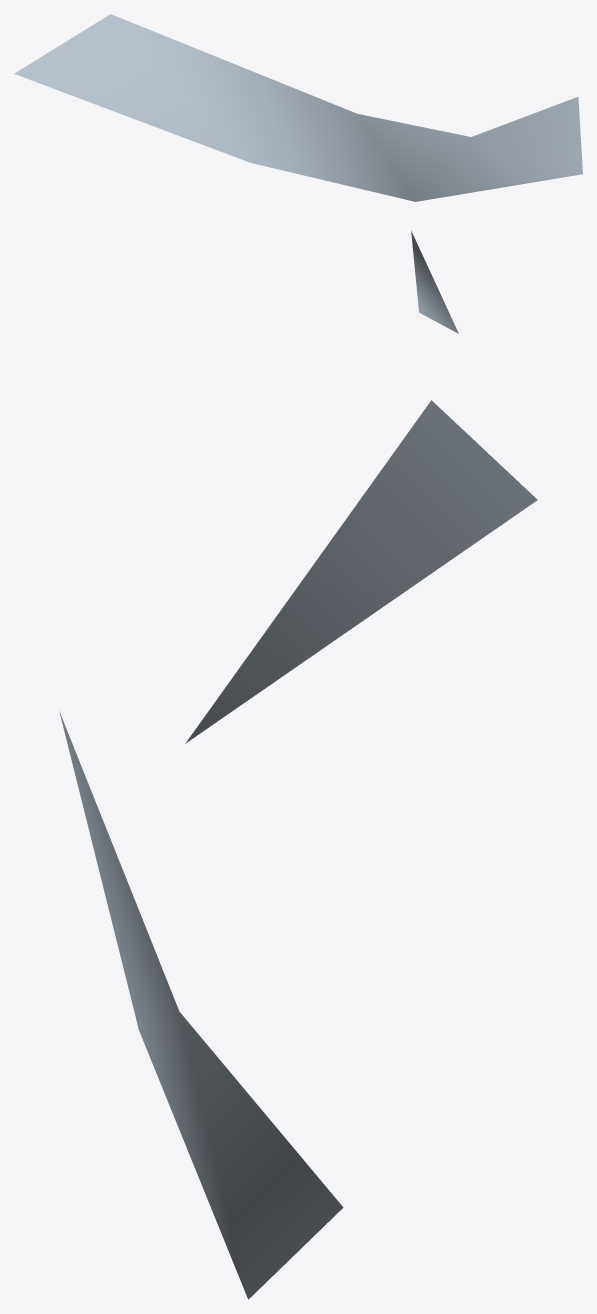
File: palmar-scaphotriquetral-ligament-r.glb
The picture shows the model from 3 angles, top to bottom: view 1: azimuth 30°, elevation 25°; view 2: azimuth 150°, elevation 25°; view 3: azimuth 270°, elevation 25°; orthographic projection. The views are drawn at different scales.
Parts seen in each view (by area): view 1: Palmar scaphotriquetral ligament.r; view 2: Palmar scaphotriquetral ligament.r; view 3: Palmar scaphotriquetral ligament.r.
Part boxes in pixels (bbox=[...]): Palmar scaphotriquetral ligament.r: bbox=[14, 14, 582, 201]; Palmar scaphotriquetral ligament.r: bbox=[411, 230, 458, 333]; Palmar scaphotriquetral ligament.r: bbox=[59, 400, 537, 1299].
Bounding box in the file's own units: 0.0197 × 0.0071 × 0.00752.
